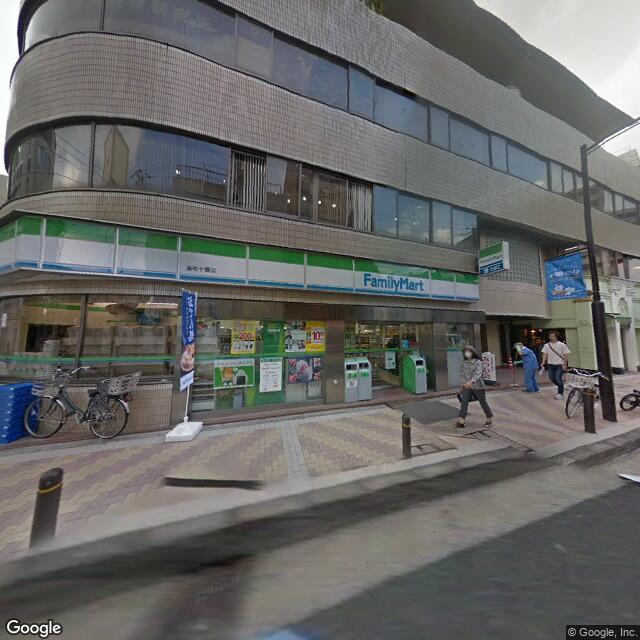family_mart: (2, 213, 479, 309), (358, 269, 427, 297), (478, 239, 506, 272)
